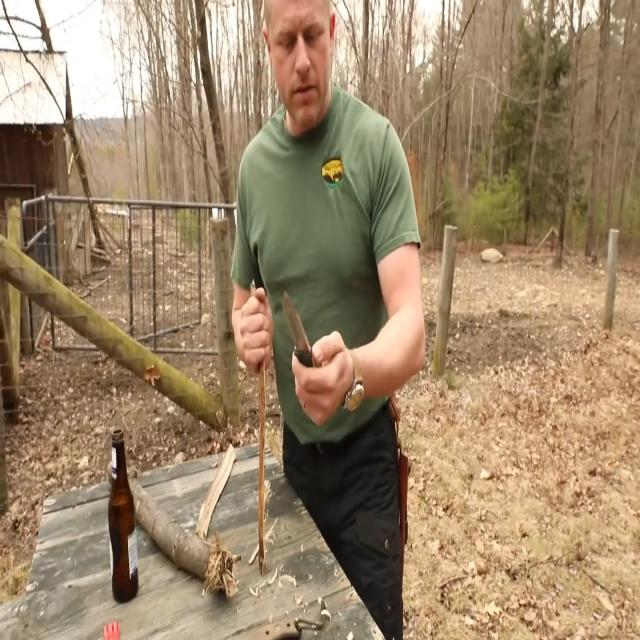knife: (283, 280, 316, 368)
